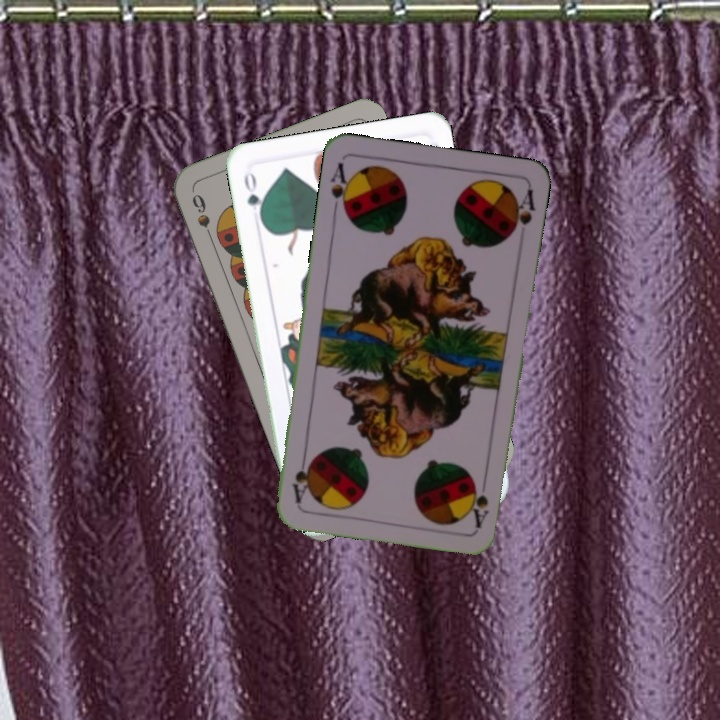GO: (240, 167, 266, 226)
S9: (188, 189, 217, 246)
SA: (327, 158, 355, 218), (468, 471, 491, 530)
